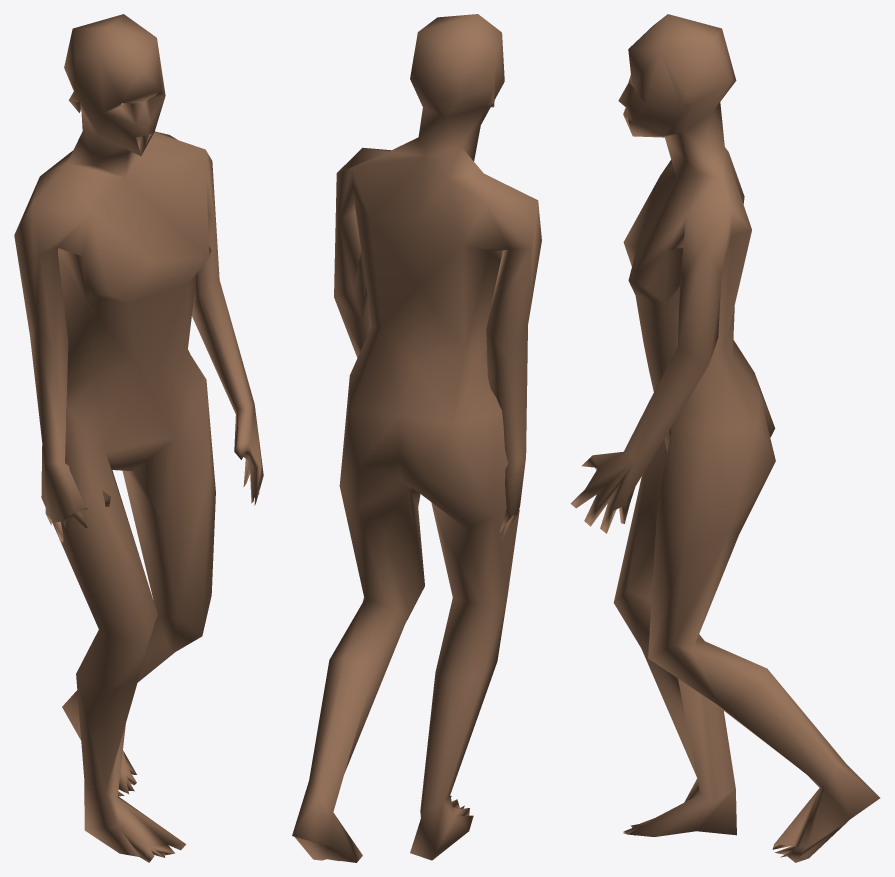
The model's file is obs_000022.obj.
The picture shows the model from 3 angles, left to right: view 1: azimuth 30°, elevation 25°; view 2: azimuth 150°, elevation 25°; view 3: azimuth 270°, elevation 25°; orthographic projection. The views are drawn at different scales.
Parts seen in each view (by area): view 1: 1-base; view 2: 1-base; view 3: 1-base.
Part boxes in pixels (bbox=[...]): 1-base: bbox=[14, 14, 263, 862]; 1-base: bbox=[292, 14, 541, 862]; 1-base: bbox=[570, 14, 880, 862].
Bounding box in the file's own units: 0.3658 × 1.43 × 0.4956.
